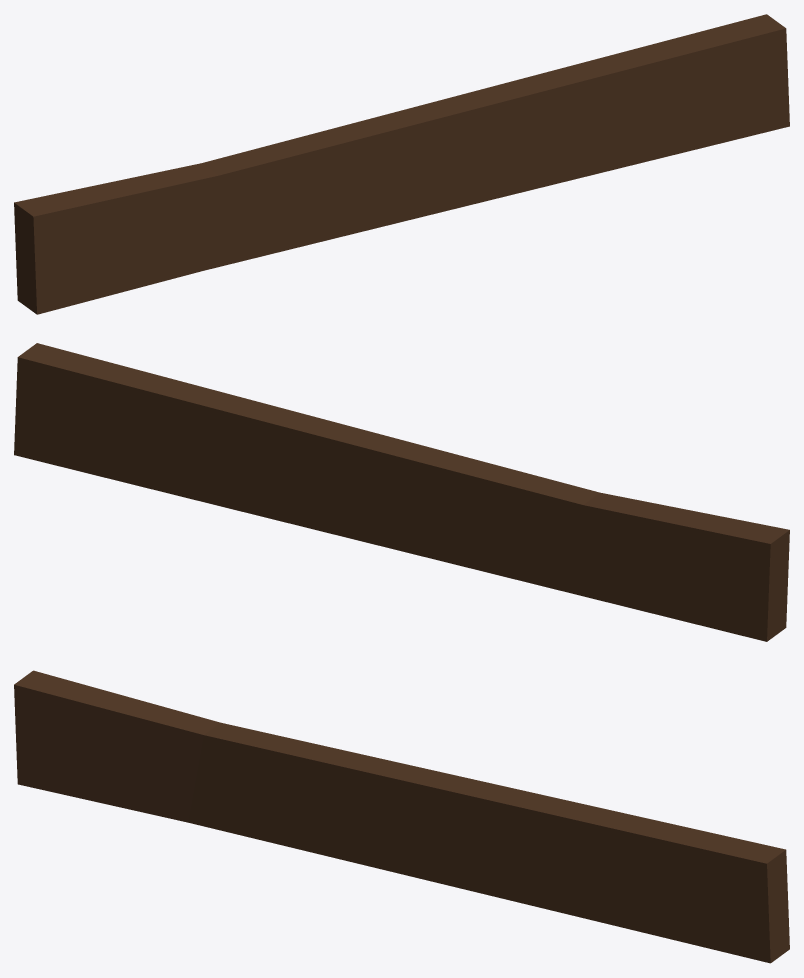
Rendered from Wood 1.glb.
3 renders of one model, top to bottom at view 1: azimuth 30°, elevation 25°; view 2: azimuth 150°, elevation 25°; view 3: azimuth 330°, elevation 25°, orthographic.
Visible parts, largest first — view 1: Wood 1; view 2: Wood 1; view 3: Wood 1.
Boxes of the visible parts, x1,y1,x2,y2 form: Wood 1: (14,14,789,314); Wood 1: (14,343,789,641); Wood 1: (14,670,789,963).
Size of what is drawn, in the model's own units: 5.29 by 0.687 by 0.2441.
Materials: 1 (1 with a texture image).
